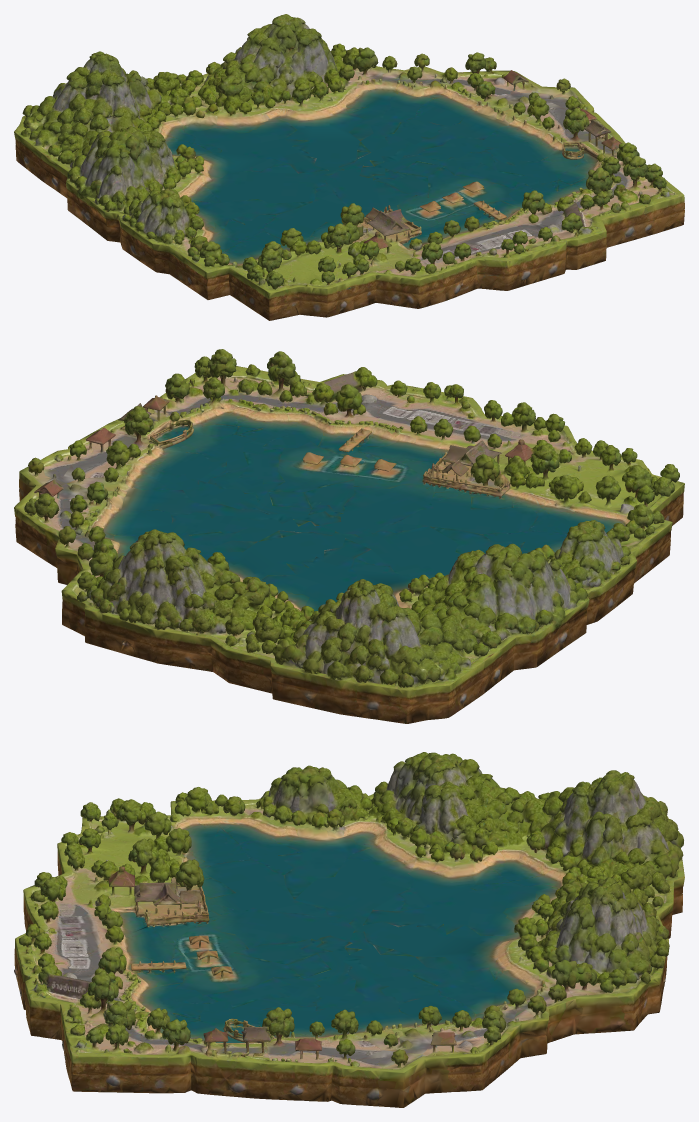
File: ang-sap-lek.glb
The picture shows the model from 3 angles, top to bottom: view 1: azimuth 30°, elevation 25°; view 2: azimuth 150°, elevation 25°; view 3: azimuth 270°, elevation 25°; orthographic projection. The views are drawn at different scales.
Bounding box in the file's own units: 1.89 × 0.3503 × 1.91.
Materials: 1 (1 with a texture image).
